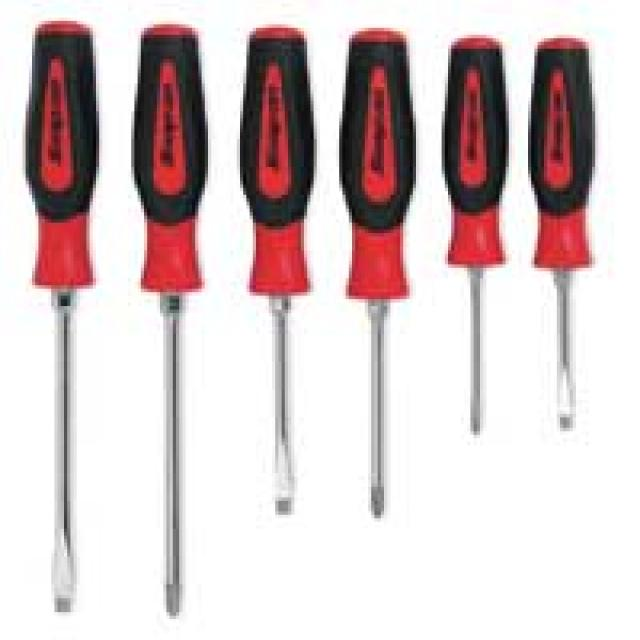screw driver: (11, 11, 114, 625), (126, 18, 224, 631), (328, 11, 433, 527), (236, 15, 332, 535), (523, 26, 614, 456), (443, 25, 529, 452)
